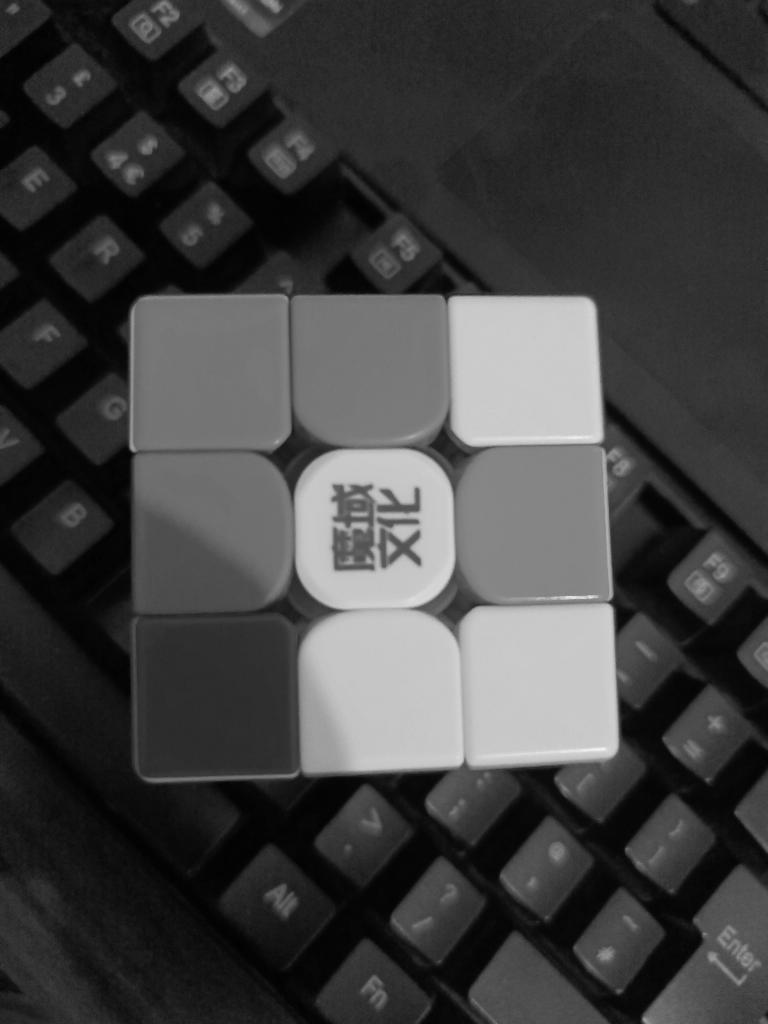rubik: (126, 290, 620, 782)
